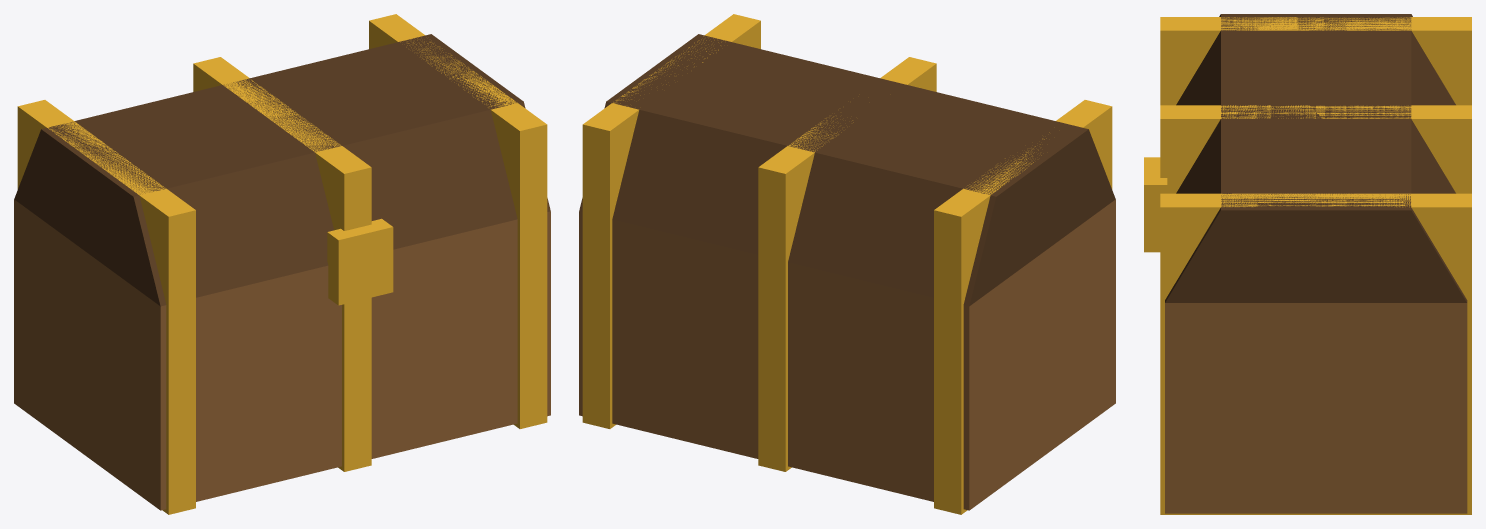
The model's file is chest_closed.glb.
3 renders of one model, left to right at view 1: azimuth 30°, elevation 25°; view 2: azimuth 150°, elevation 25°; view 3: azimuth 270°, elevation 25°, orthographic. The views are drawn at different scales.
Parts seen in each view (by area): view 1: wood-col, Lid_wood_dark, Lid_gold, gold; view 2: wood-col, Lid_wood_dark, Lid_gold, gold; view 3: Lid_wood_dark, wood-col, Lid_gold, gold.
Boxes of the visible parts, x1,y1,x2,y2 form: wood-col: [14, 199, 550, 510]; Lid_wood_dark: [14, 34, 550, 306]; Lid_gold: [17, 14, 547, 314]; gold: [162, 222, 547, 514]; wood-col: [579, 199, 1115, 510]; Lid_wood_dark: [579, 34, 1115, 306]; Lid_gold: [582, 14, 1112, 313]; gold: [582, 210, 967, 514]; Lid_wood_dark: [1165, 14, 1467, 302]; wood-col: [1165, 303, 1467, 513]; Lid_gold: [1144, 17, 1471, 308]; gold: [1160, 296, 1471, 514].
Bounding box in the file's own units: 1 × 0.73 × 0.705.
